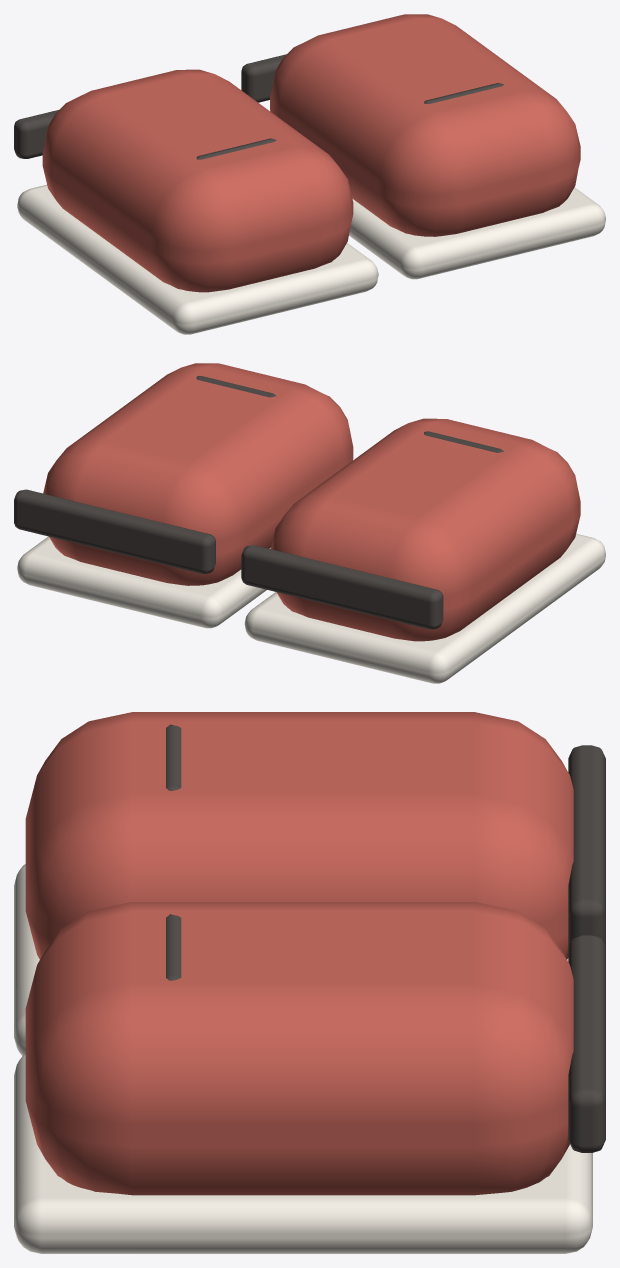
Rendered from basketball_shoes.glb.
3 views of the same model, one above another, from view 1: azimuth 30°, elevation 25°; view 2: azimuth 150°, elevation 25°; view 3: azimuth 270°, elevation 25° (orthographic). The views are drawn at different scales.
Parts seen in each view (by area): view 1: basketball_shoes_LegL, basketball_shoes_LegR; view 2: basketball_shoes_LegL, basketball_shoes_LegR; view 3: basketball_shoes_LegR, basketball_shoes_LegL.
Part boxes in pixels (x1,y1,x2,y2): basketball_shoes_LegL: (14,69,378,334); basketball_shoes_LegR: (241,14,605,279); basketball_shoes_LegL: (241,418,605,683); basketball_shoes_LegR: (14,363,353,628); basketball_shoes_LegR: (14,902,605,1253); basketball_shoes_LegL: (14,712,605,1055).
Bounding box in the file's own units: 0.36 × 0.1087 × 0.2505.
